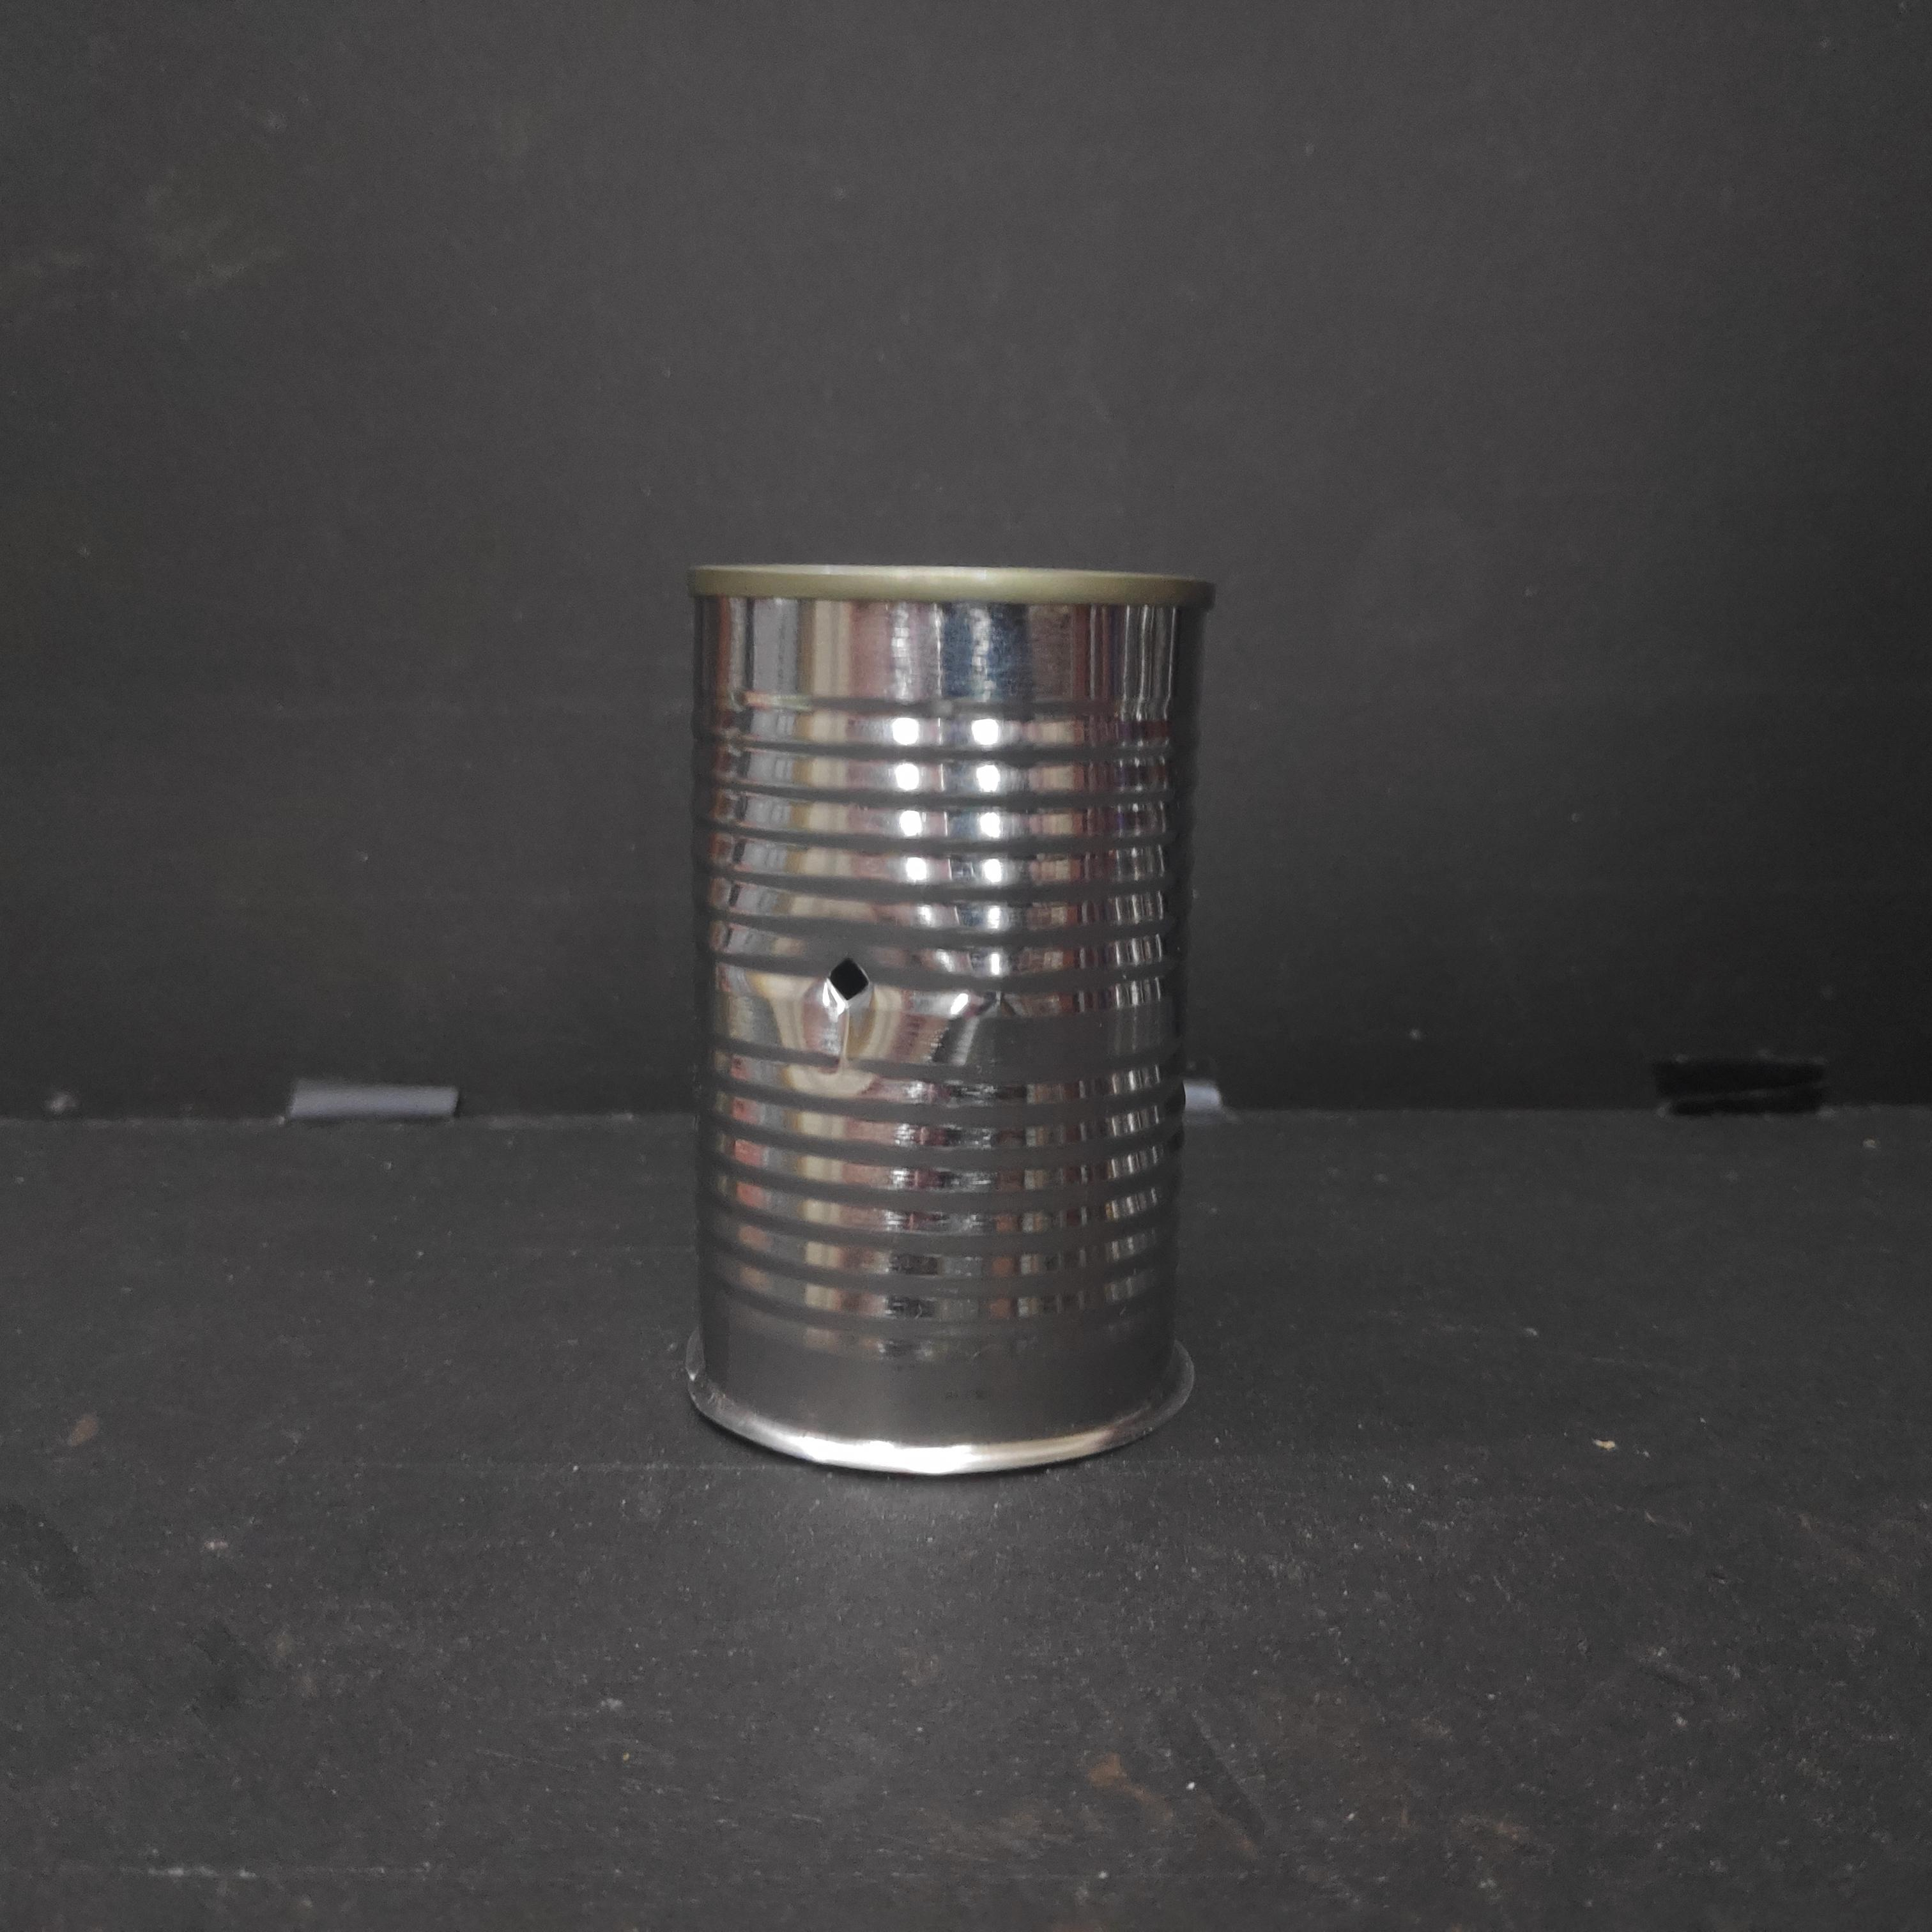Critical Defect: (672, 547, 1215, 1489)
